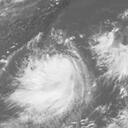cyclone: (17, 52, 78, 116)
